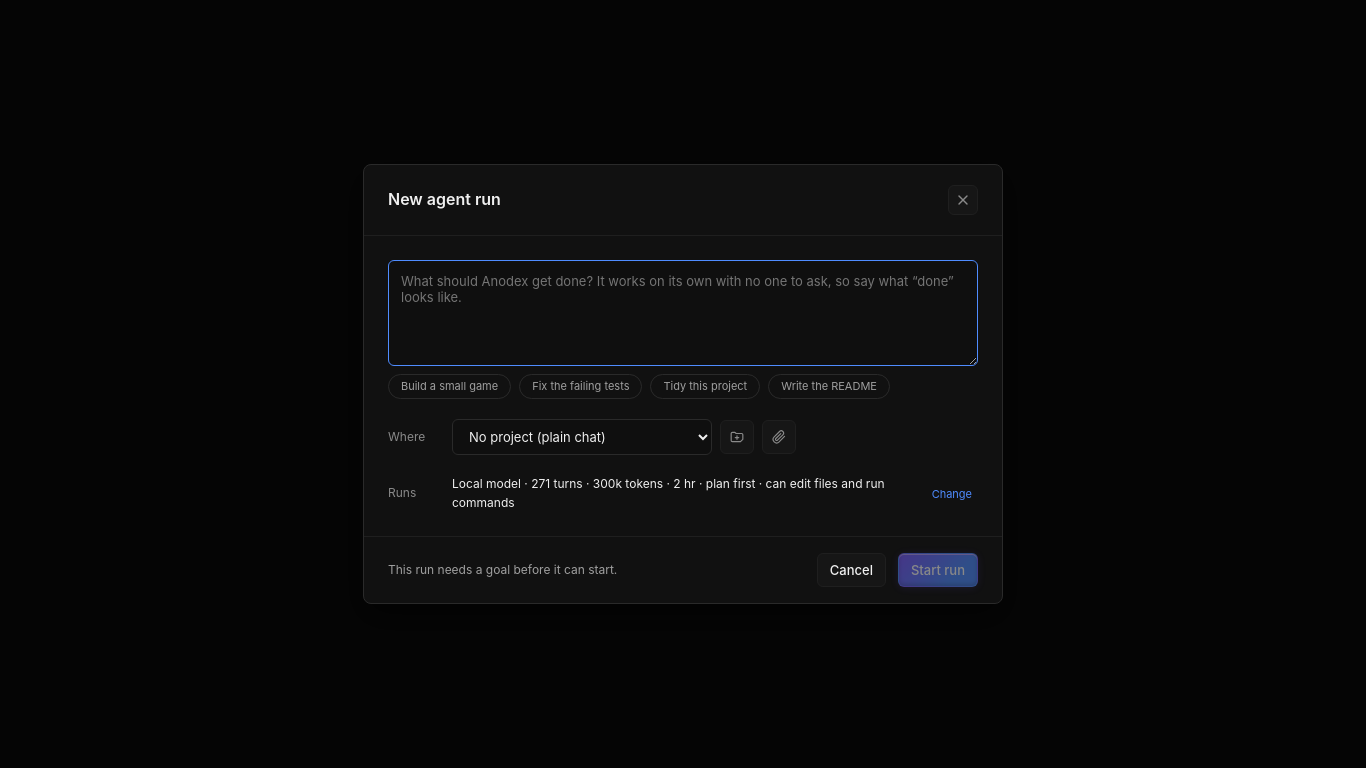
Test case: the settings line › starts a goal from an example
Click the button "Write the README".
click(829, 386)  # box [768,374,890,399]
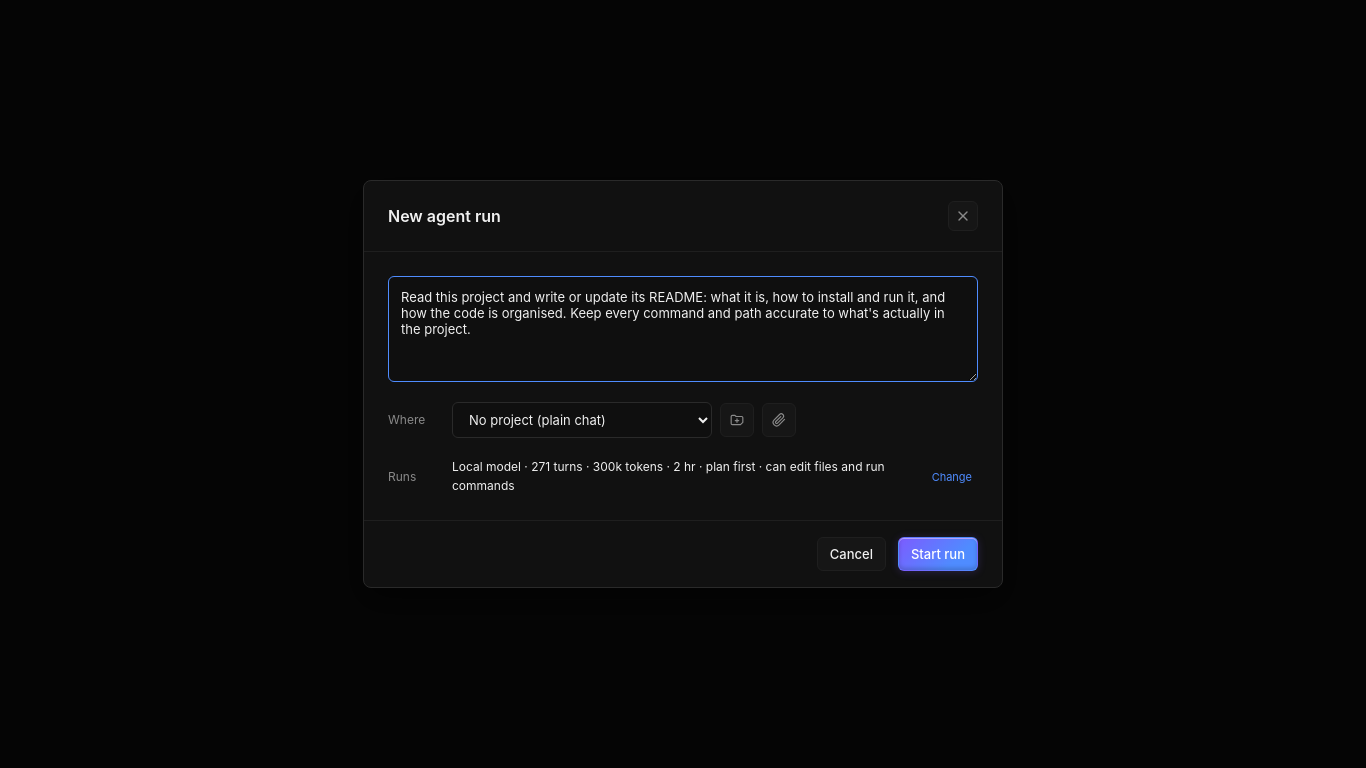
expect the button "Start run" is enabled: met, box [898,537,978,571]
